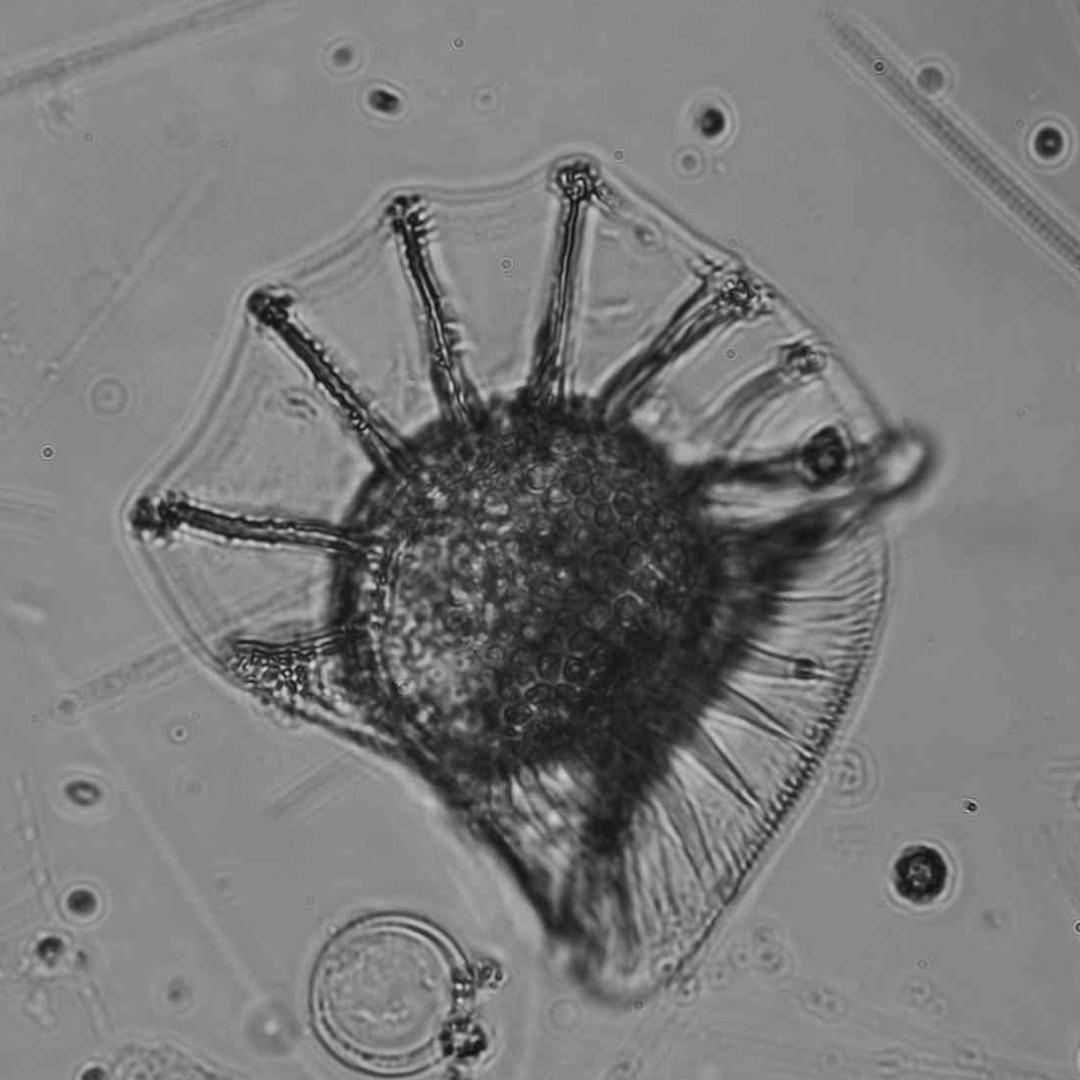ornithocercus_thumii: (129, 163, 900, 1001)
